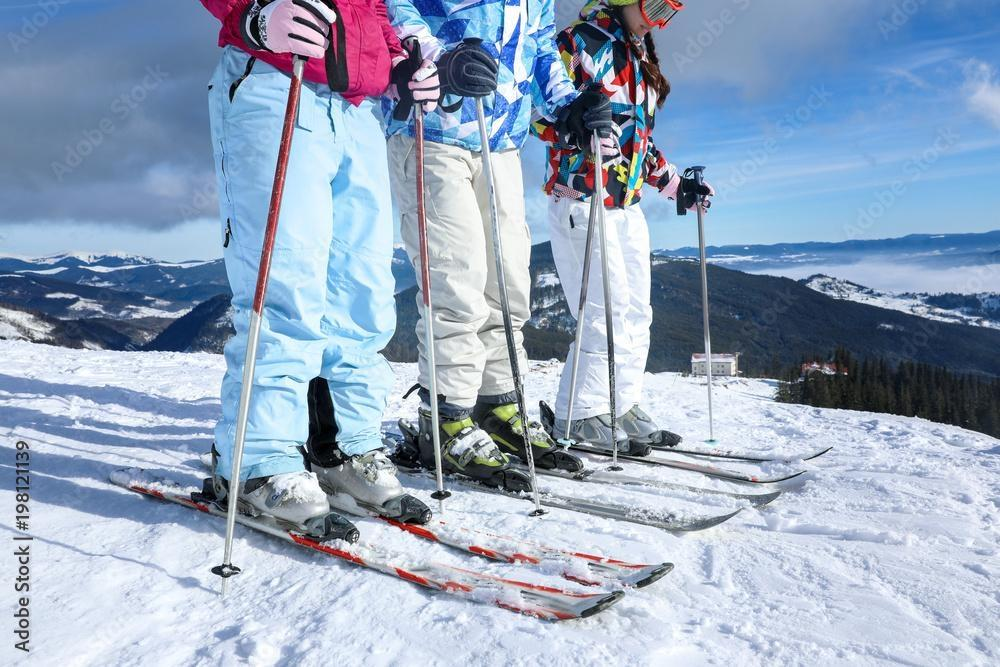Skis: (122, 444, 669, 648)
